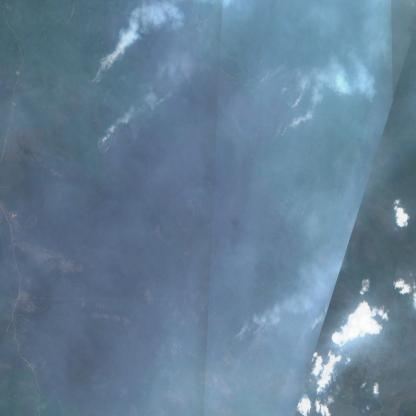fire: (282, 89, 314, 143), (92, 41, 126, 87), (92, 112, 124, 158)
